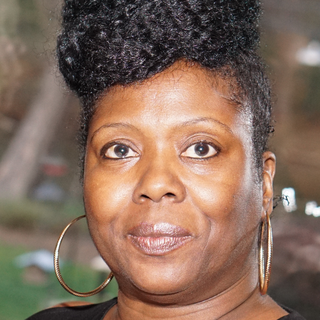eye: (97, 139, 142, 166), (179, 138, 225, 164)
